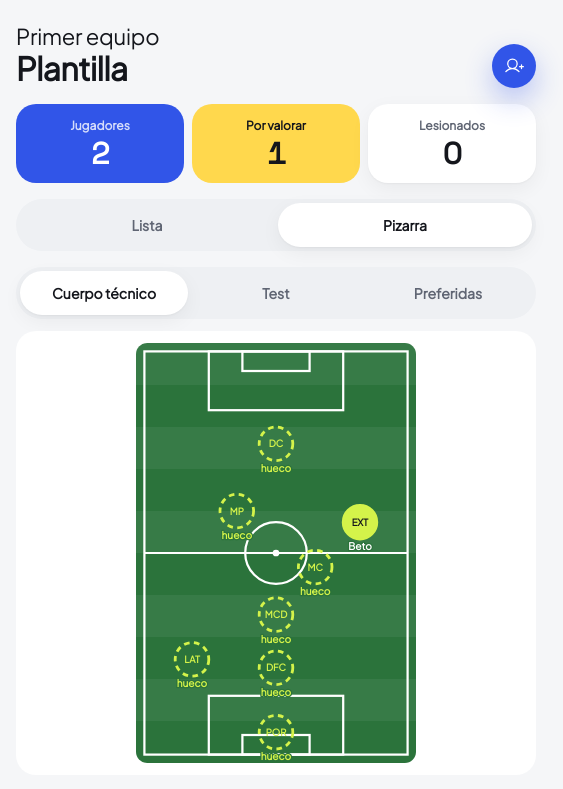
Test: SquadPage › la pizarra: reparto según la fuente, huecos y el test oculto hasta valorar
# Según el test, Ana (oculto) no cuenta.
Click the button "Test" at {"x": 276, "y": 293}, box [192,271,360,315]
(page scrolled)
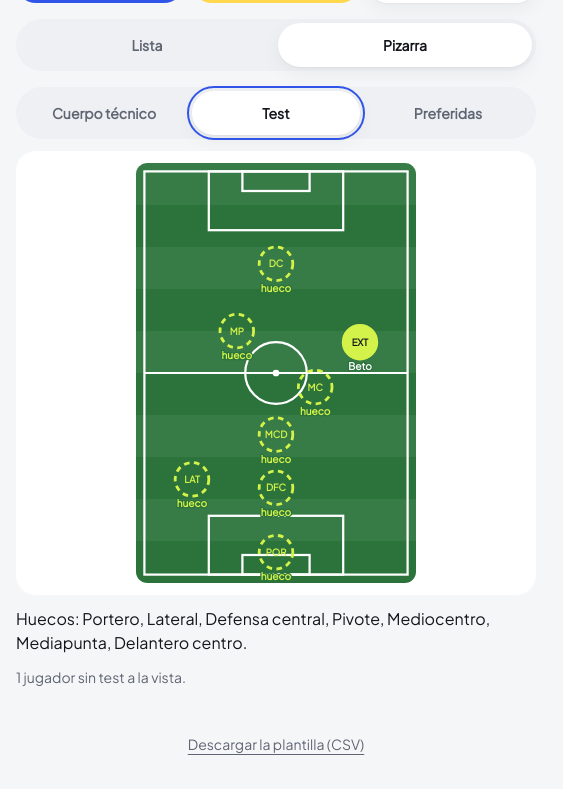
Expected: the text "1 jugador sin test a la vista." is shown, [16,668,186,686]
